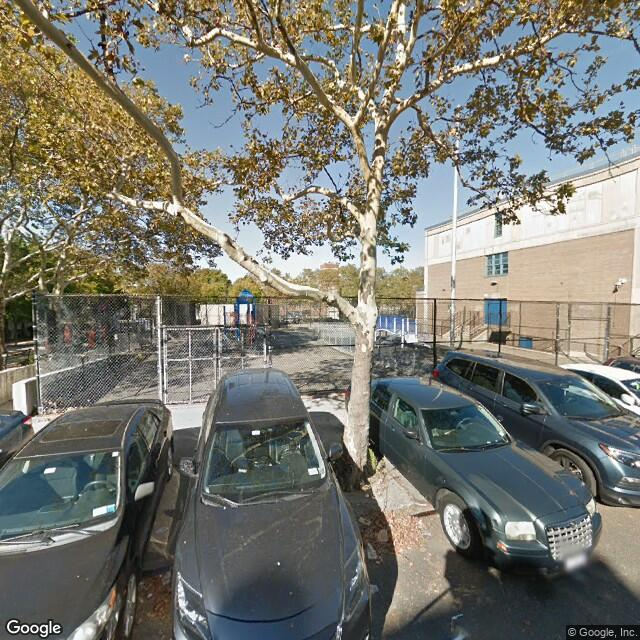litter: (359, 537, 382, 561), (350, 511, 378, 528), (373, 526, 391, 542)
